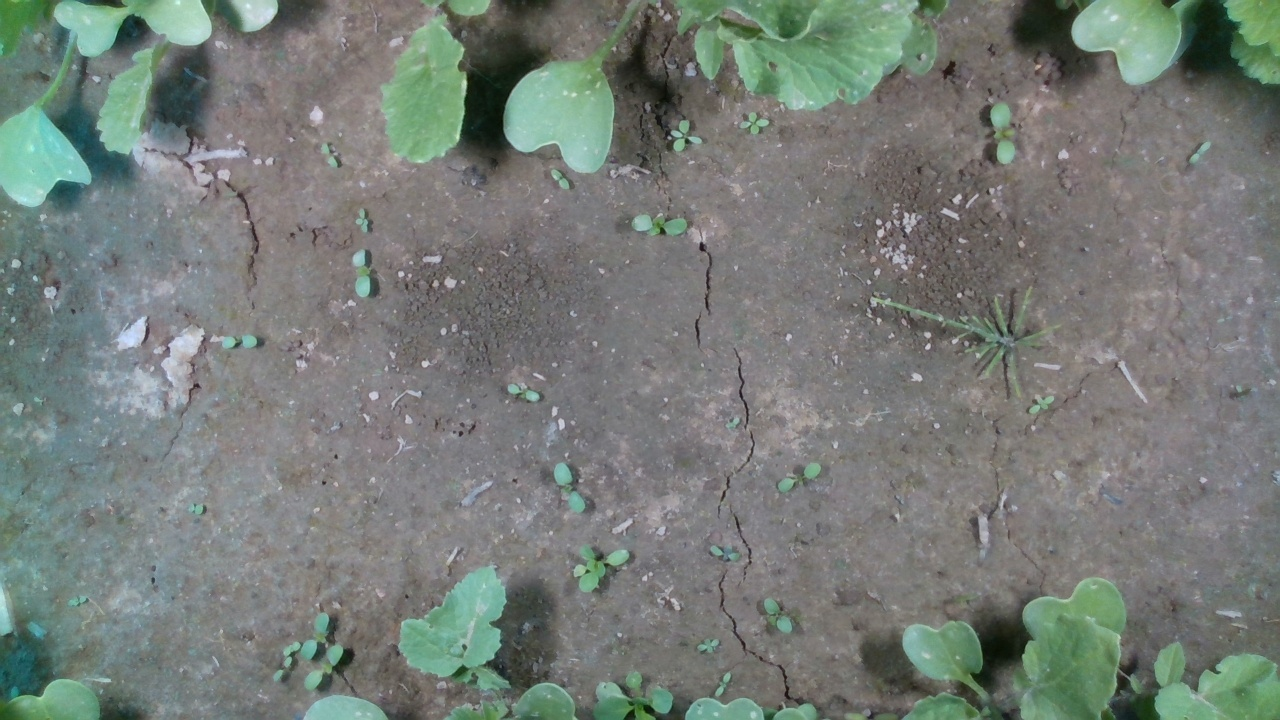weed: (218, 335, 258, 350)
